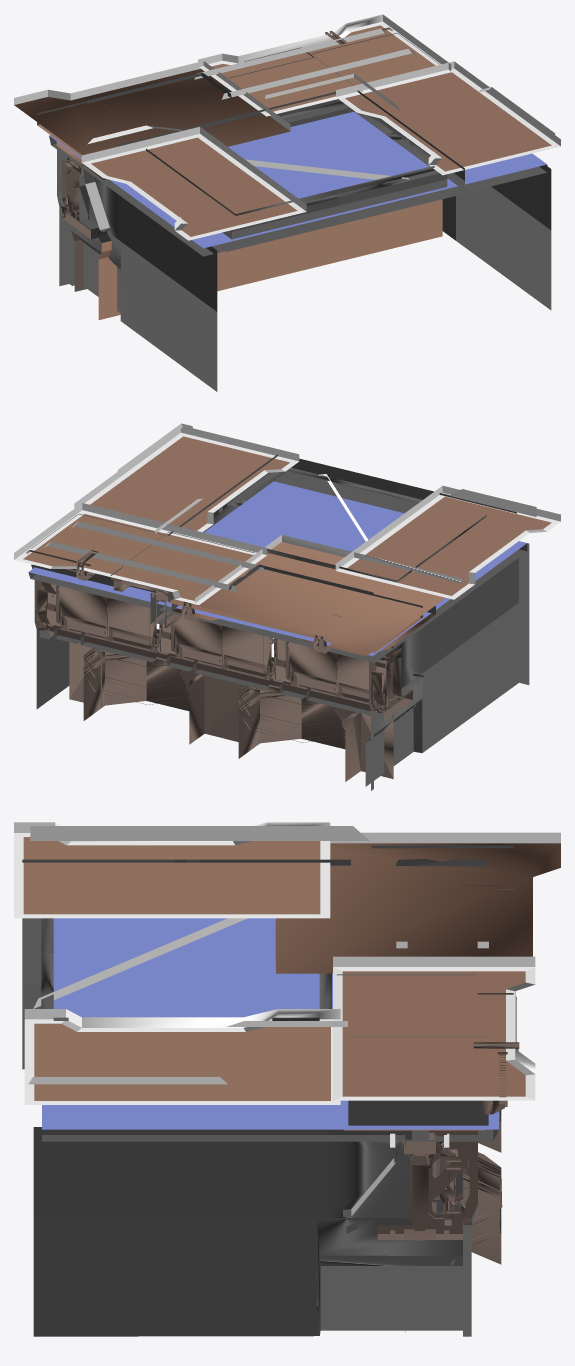
The model's file is lorville_city_plating_wall_b_b.glb.
The picture shows the model from 3 angles, top to bottom: view 1: azimuth 30°, elevation 25°; view 2: azimuth 150°, elevation 25°; view 3: azimuth 270°, elevation 25°; orthographic projection. The views are drawn at different scales.
Bounding box in the file's own units: 282 × 131 × 238.
